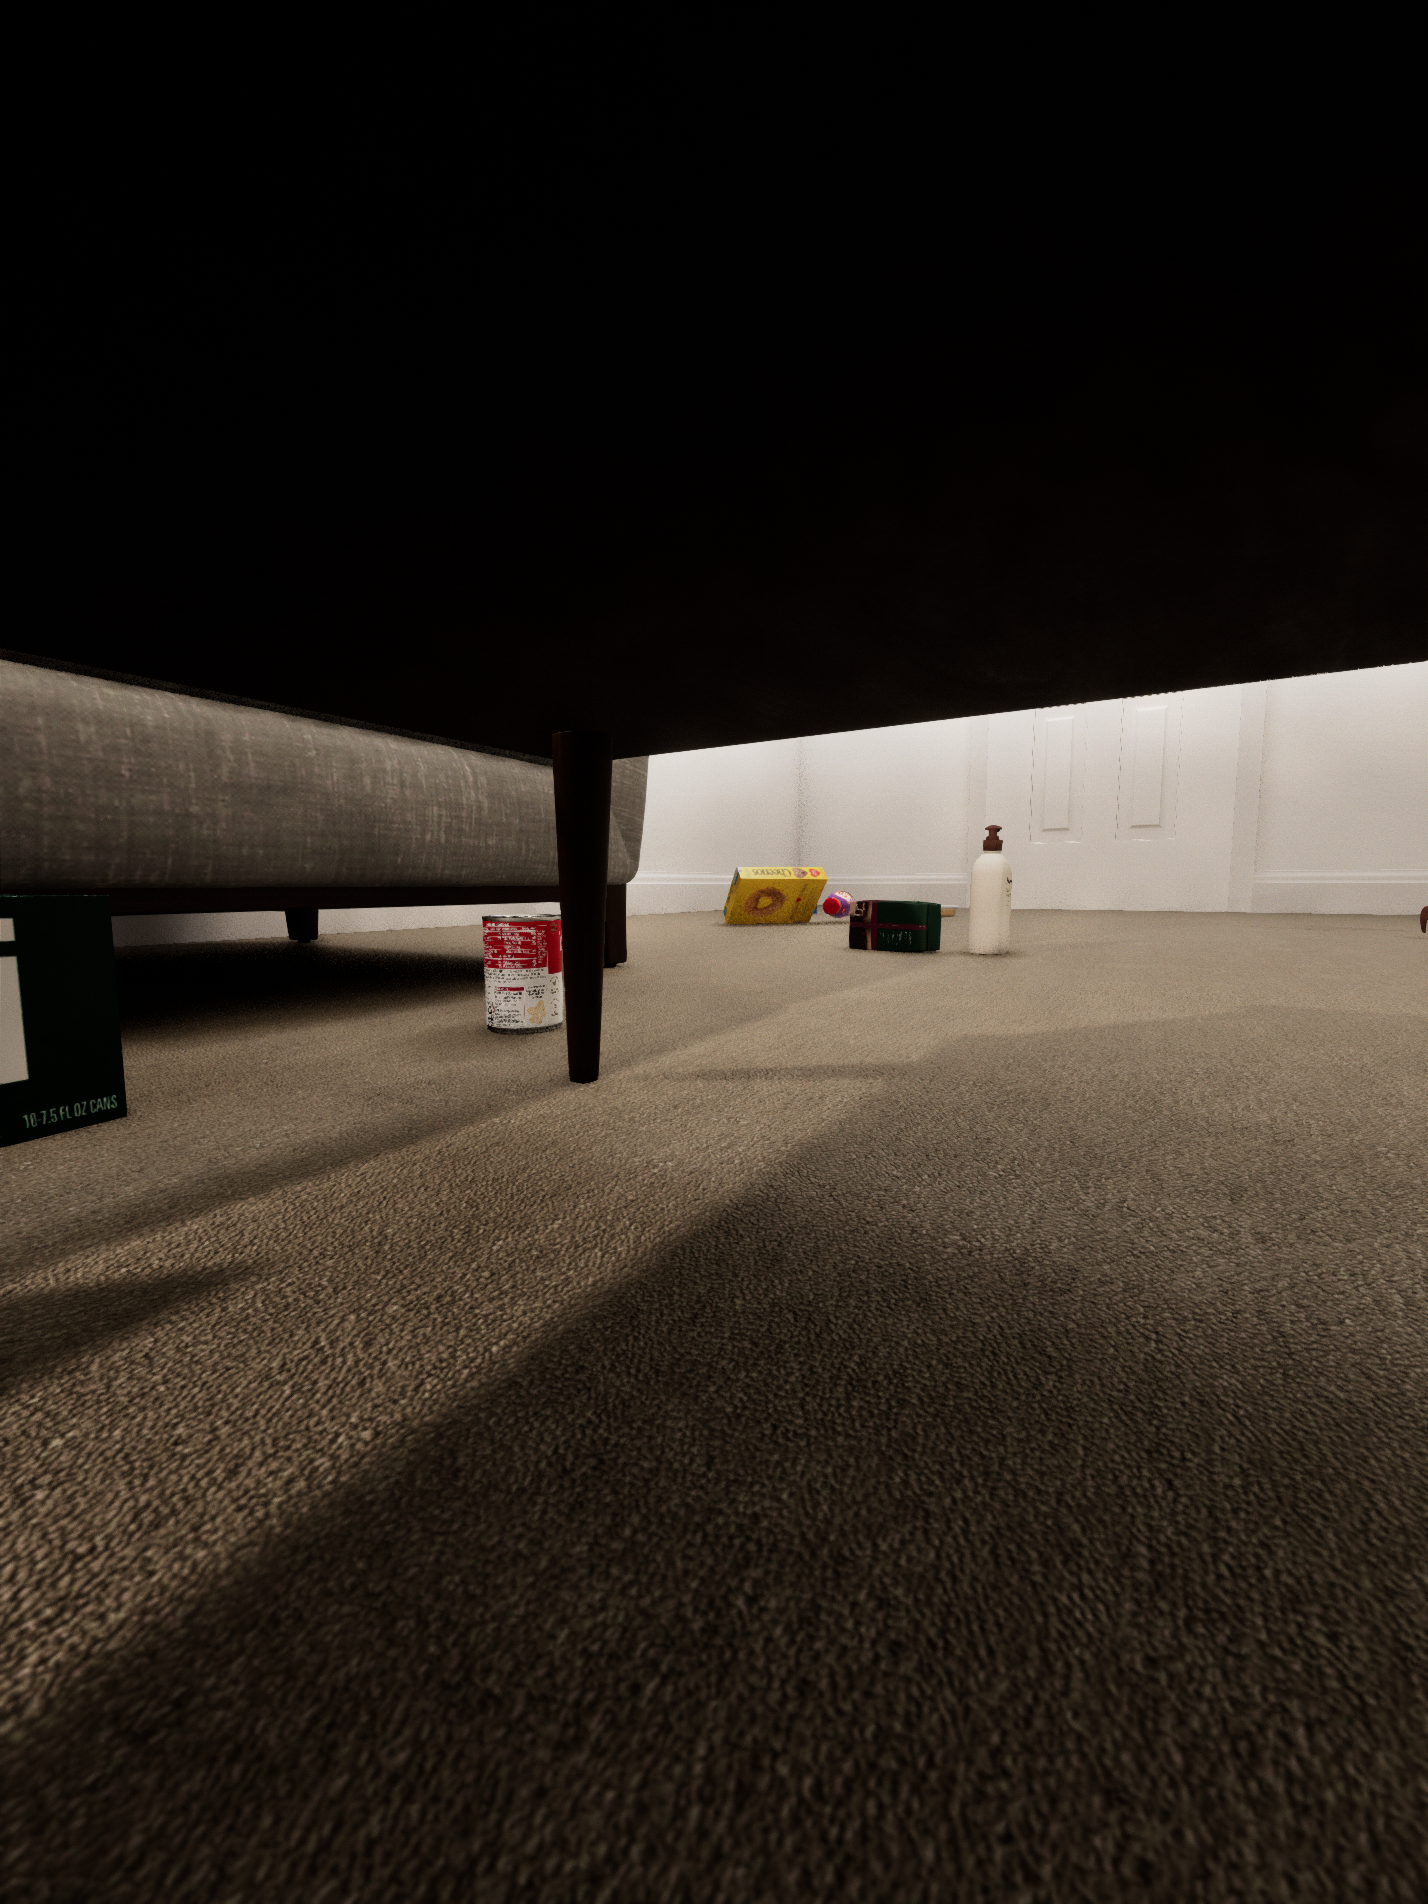cheerios: (69, 789, 532, 1022)
